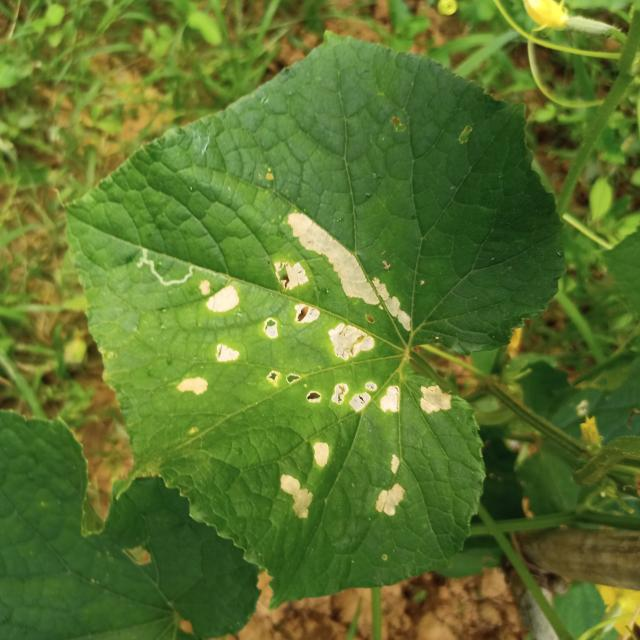disease_cucumber: (263, 208, 418, 367), (168, 279, 282, 406), (261, 364, 457, 426), (277, 439, 408, 529)
